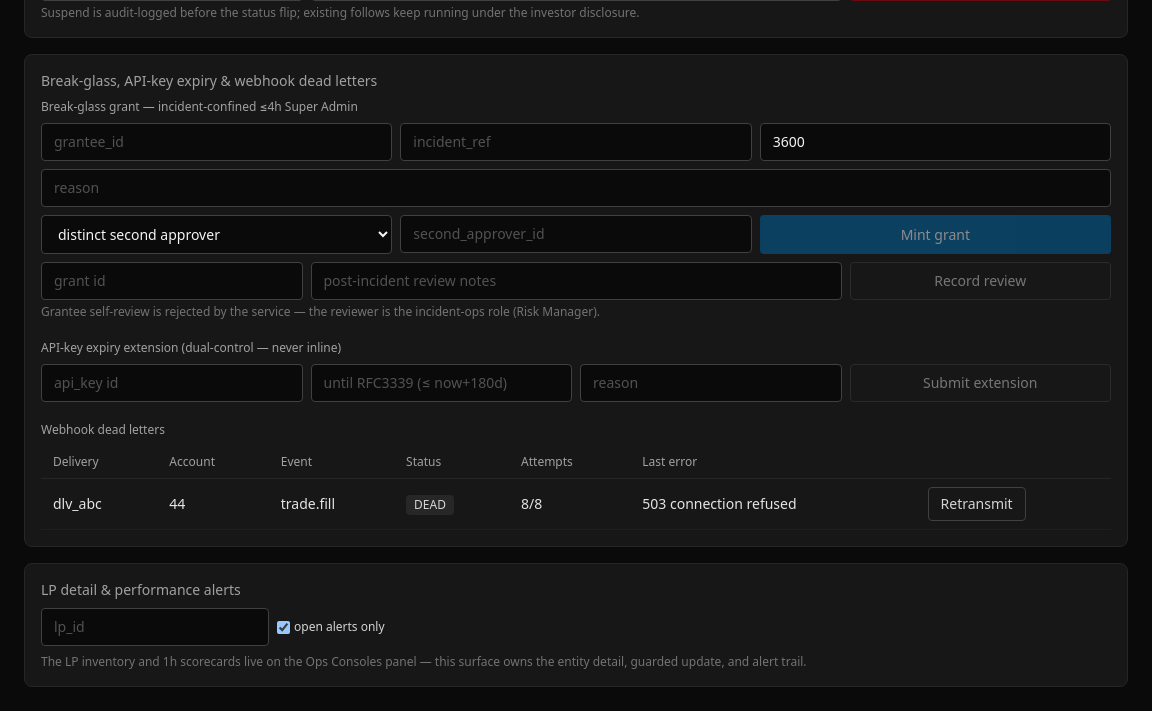
Test: ContentPage › queues an API-key expiry extension as a dual-control request
The image size is (1152, 711).
(page scrolled)
Check: the text "dlv_abc" is shown, box [41, 478, 157, 530]
Type "77" into the field named "API key id". click: coordinates (172, 383)
box: [41, 364, 302, 402]
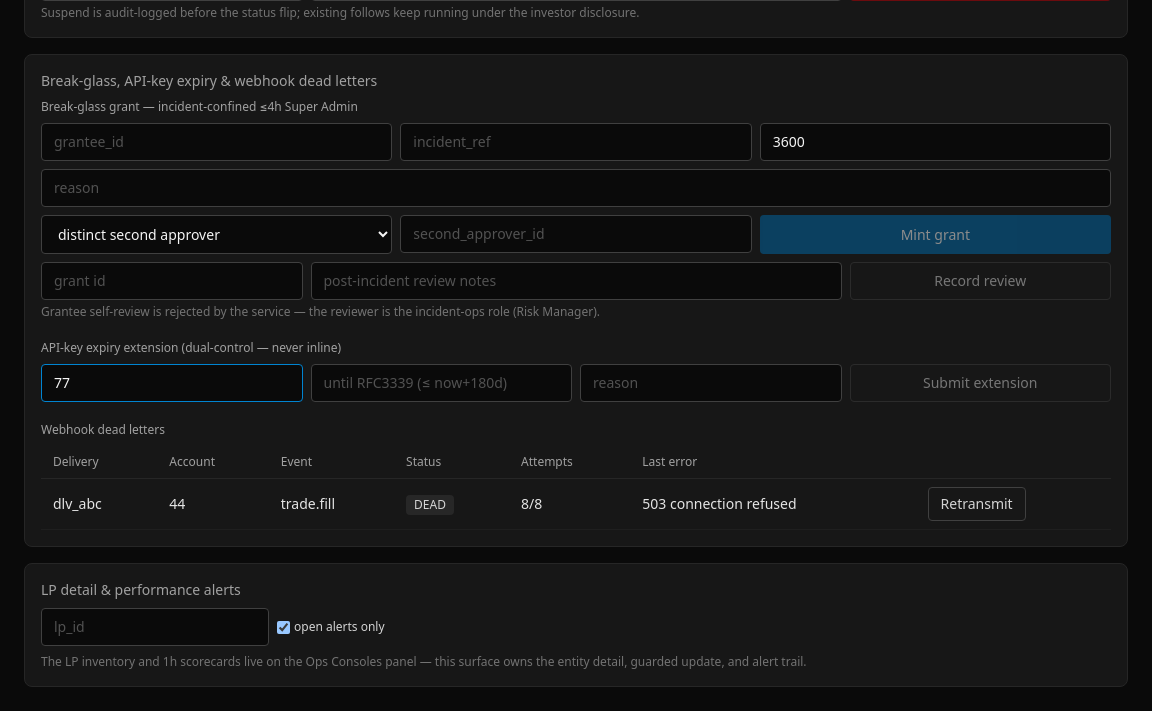
Type "2027-02-01T00:00:00Z" into the field labelled "until". click: coordinates (441, 383)
box: [310, 364, 572, 402]
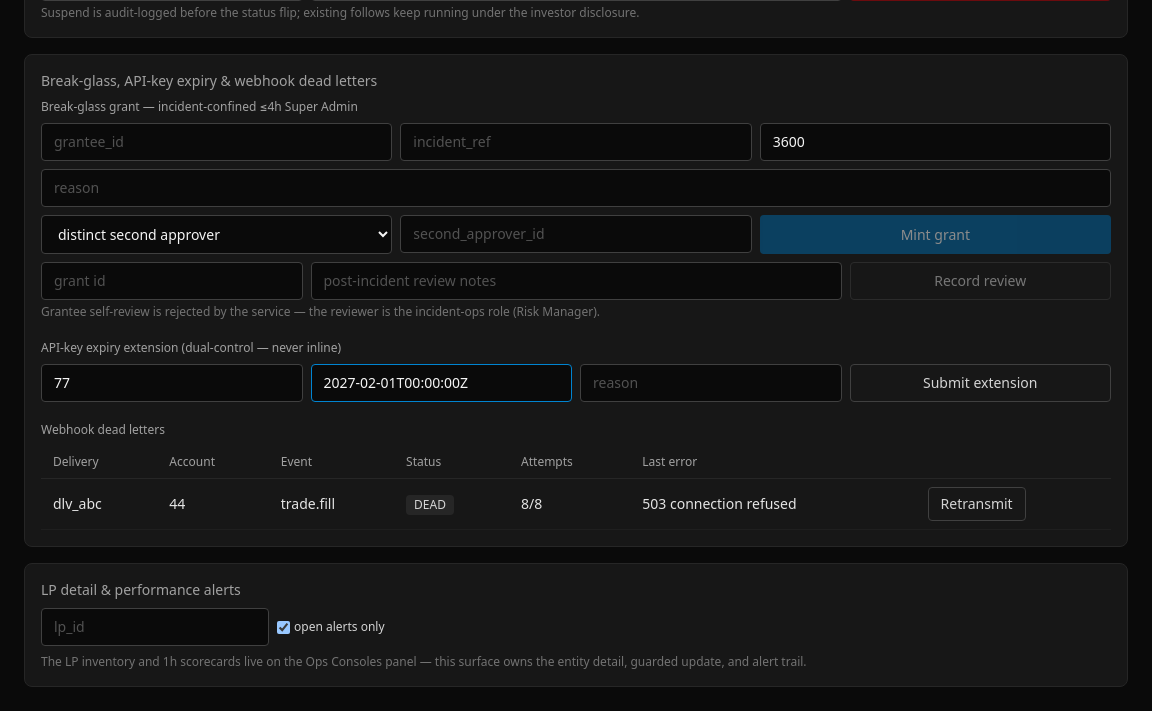
Type "cert renewal slip" into the field named "Extend reason". click: coordinates (711, 383)
box: [580, 364, 842, 402]
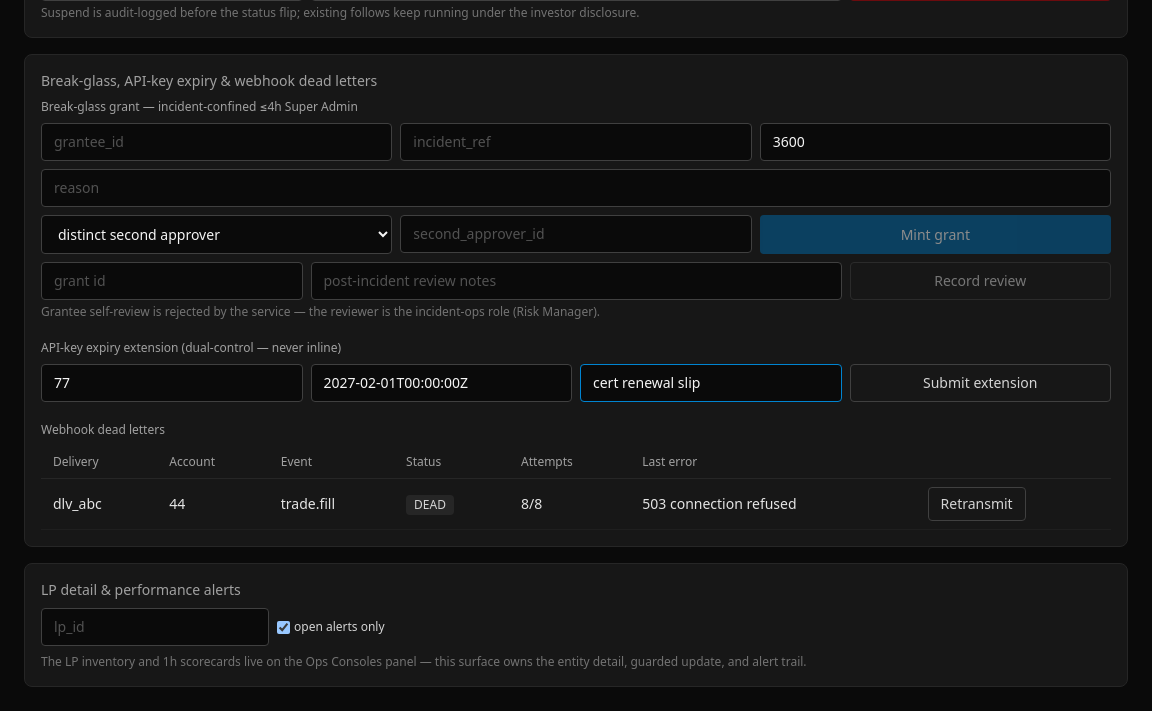
Click the button "Submit extension". click: coordinates (980, 383)
box: [850, 364, 1111, 402]
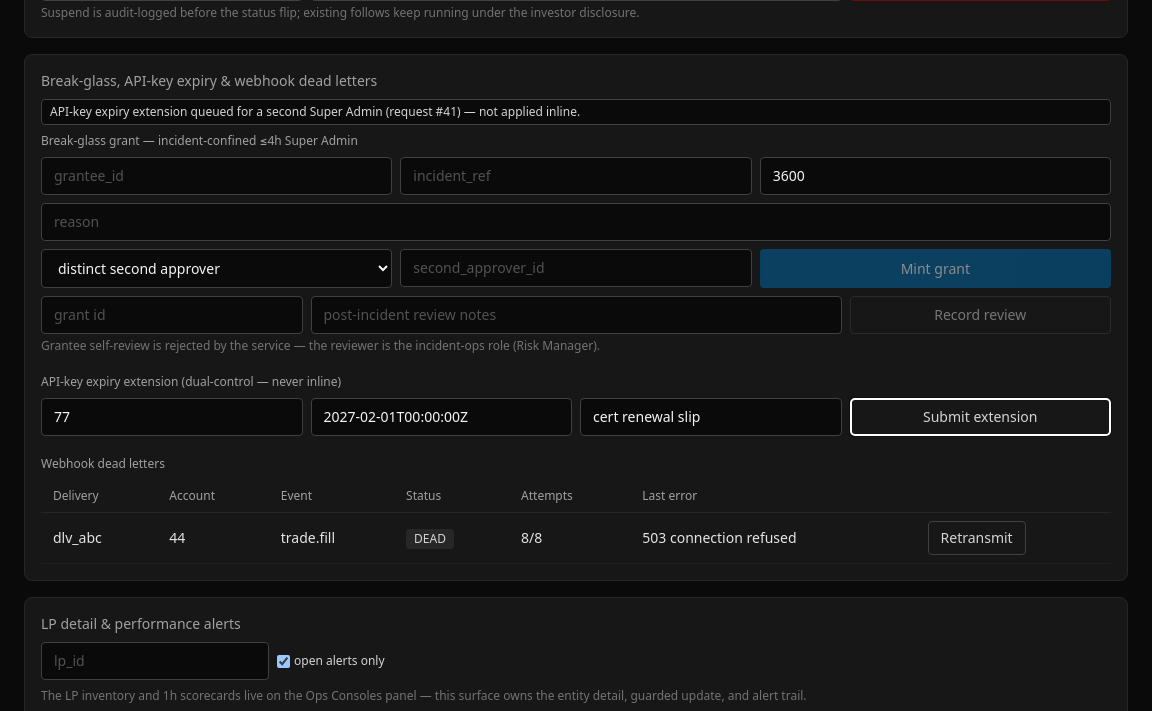
Check: the text "request #41" is shown, box [50, 103, 580, 120]
